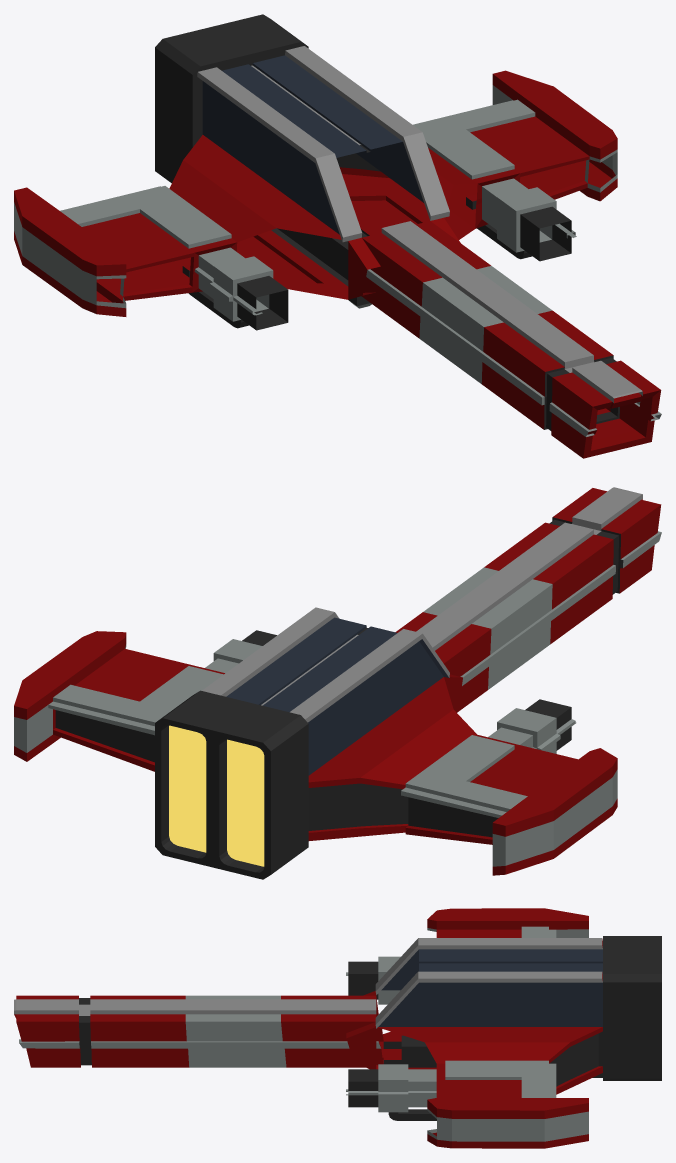
File: spaceship.glb
3 views of the same model, one above another, from view 1: azimuth 30°, elevation 25°; view 2: azimuth 150°, elevation 25°; view 3: azimuth 270°, elevation 25° (orthographic). The views are drawn at different scales.
Visible parts, largest first — view 1: Cube; view 2: Cube; view 3: Cube.
Boxes of the visible parts, left/top/right/bottom form: Cube: left=14, top=14, right=661, bottom=458; Cube: left=14, top=487, right=661, bottom=879; Cube: left=14, top=908, right=661, bottom=1148.
Bounding box in the file's own units: 17.24 × 4.54 × 23.34.
